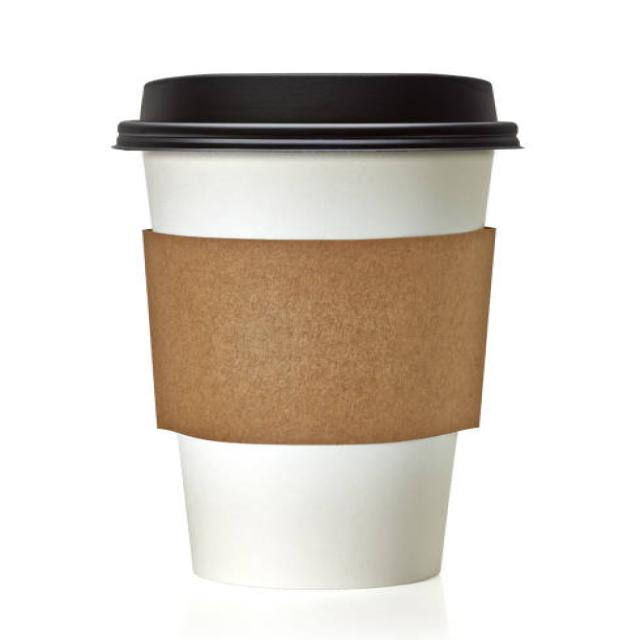cup: (112, 69, 523, 592)
